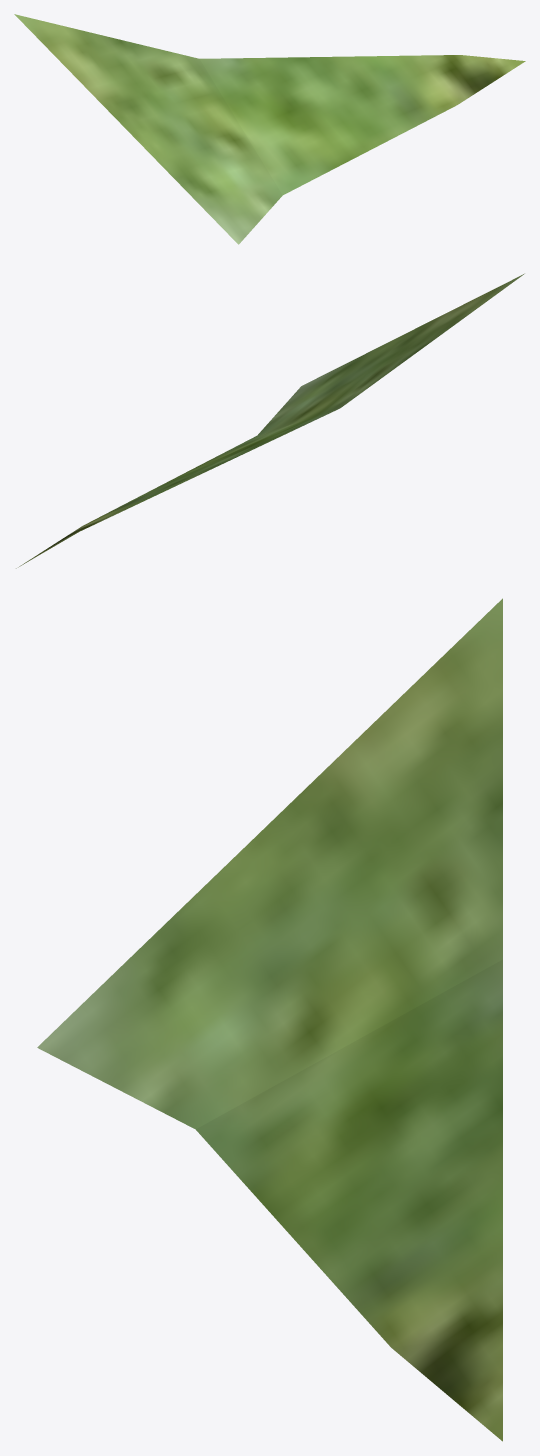
3 renders of one model, top to bottom at view 1: azimuth 30°, elevation 25°; view 2: azimuth 210°, elevation 25°; view 3: azimuth 270°, elevation 25°, orthographic. The views are drawn at different scales.
Size of the model in its own units: 0.8043 by 0.2582 by 0.317.
Materials: 1 (1 with a texture image).
